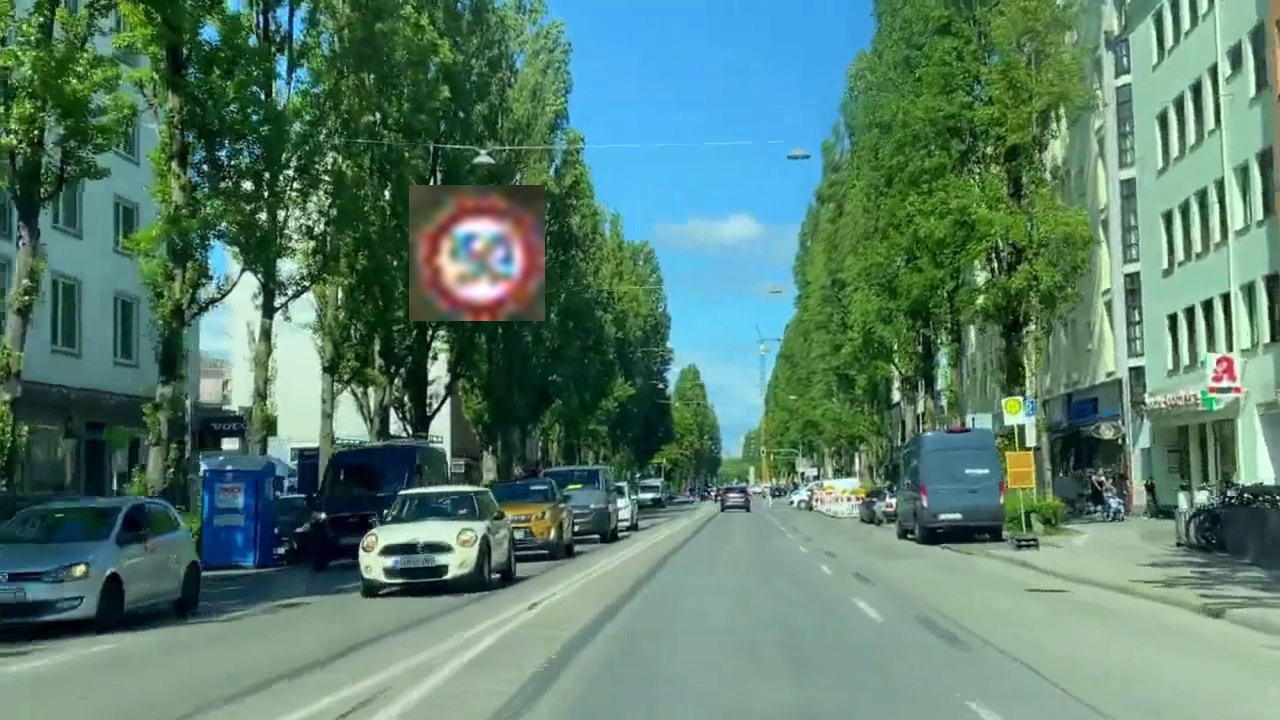Speed 50: (409, 185, 545, 321)
